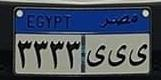3: (65, 38, 81, 72), (32, 39, 49, 71), (49, 37, 65, 70), (16, 38, 32, 69)
yaa: (107, 43, 127, 68), (86, 44, 106, 68), (129, 44, 148, 69)
